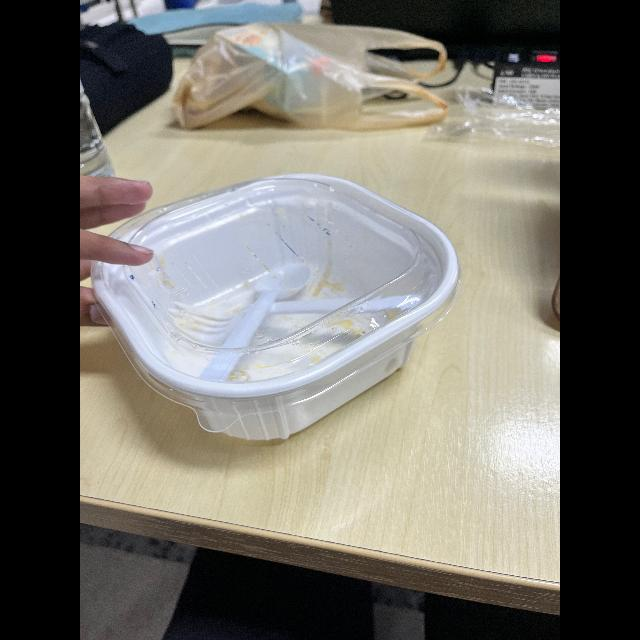plastic_box: (80, 165, 478, 442)
